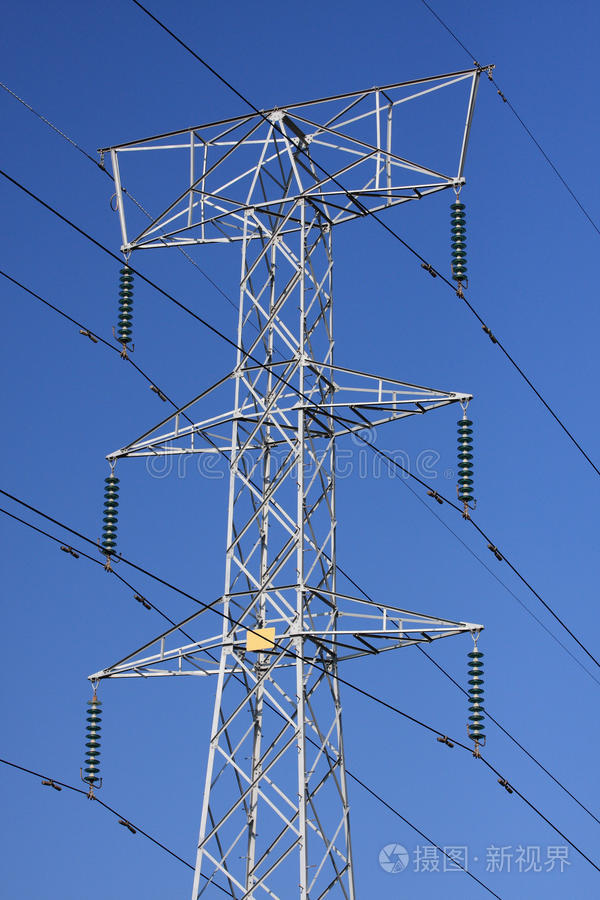insulator: (455, 416, 479, 506), (445, 202, 471, 284), (467, 649, 488, 740), (114, 265, 135, 348), (82, 698, 102, 785), (101, 475, 121, 558)
